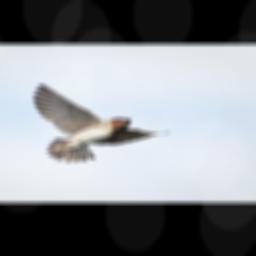Swallow: (31, 82, 172, 165)
